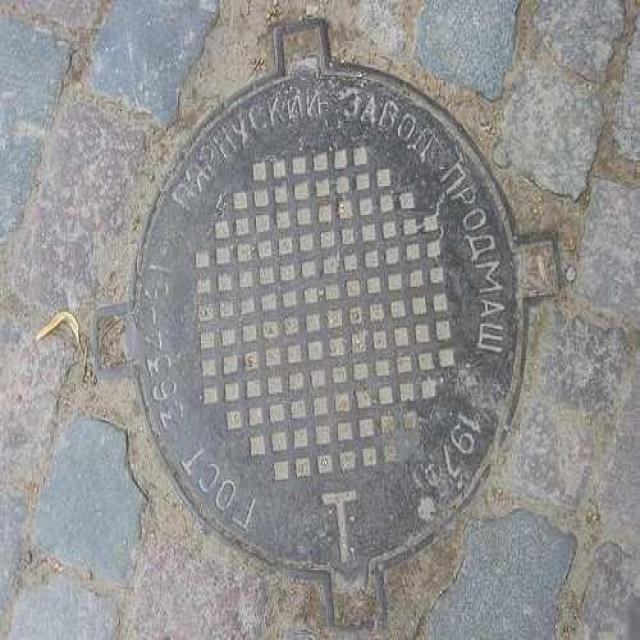manhole: (135, 68, 522, 581)
